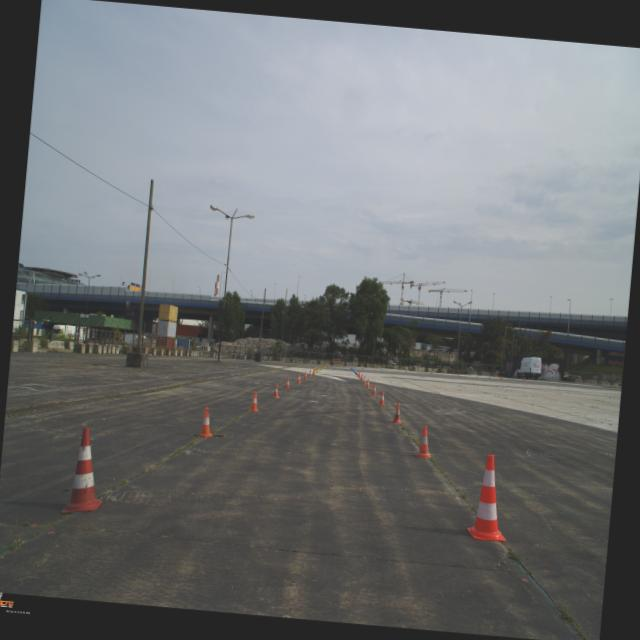blue_cone: (349, 365, 352, 369), (352, 366, 354, 371), (354, 368, 356, 373), (381, 366, 383, 371), (350, 366, 352, 370), (353, 368, 355, 372), (355, 370, 357, 374), (361, 366, 363, 370), (404, 368, 406, 372), (457, 372, 459, 376), (430, 371, 432, 374), (488, 376, 490, 378)
large_orange_cone: (60, 424, 110, 516), (466, 452, 512, 542)
orange_cone: (415, 424, 434, 459), (198, 406, 215, 438), (390, 402, 403, 424), (248, 391, 260, 412), (272, 382, 280, 398), (378, 390, 386, 406), (284, 376, 291, 389), (370, 384, 377, 396), (296, 374, 302, 384), (303, 370, 308, 380), (365, 378, 370, 388), (362, 375, 367, 384), (359, 373, 364, 381), (308, 369, 312, 377), (311, 368, 315, 374), (356, 370, 359, 376), (358, 371, 360, 378), (522, 376, 524, 381), (500, 376, 502, 380)
yellow_cone: (316, 366, 318, 372), (320, 365, 322, 370), (324, 363, 326, 368), (339, 363, 341, 368), (476, 373, 478, 378), (314, 368, 316, 372), (322, 364, 324, 368), (327, 363, 329, 367), (355, 365, 357, 369), (375, 366, 377, 370), (314, 367, 316, 370), (399, 368, 402, 370), (426, 370, 428, 373), (451, 372, 453, 375), (498, 376, 501, 378), (325, 363, 326, 367)
